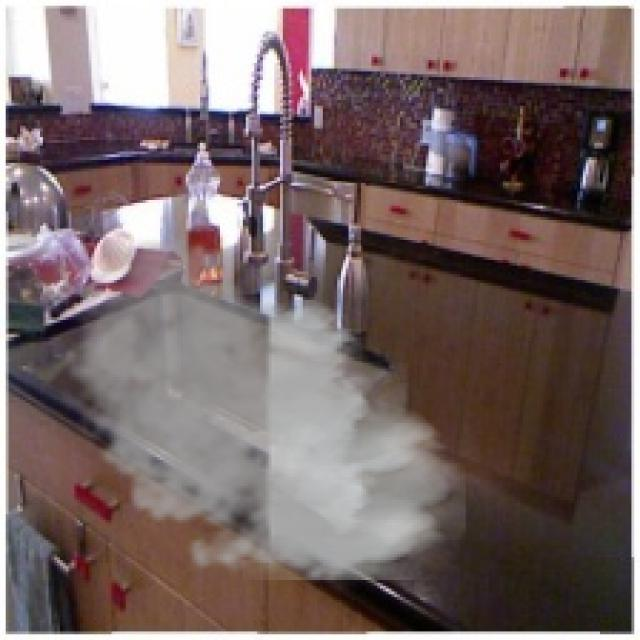smoke: (48, 232, 466, 594)
